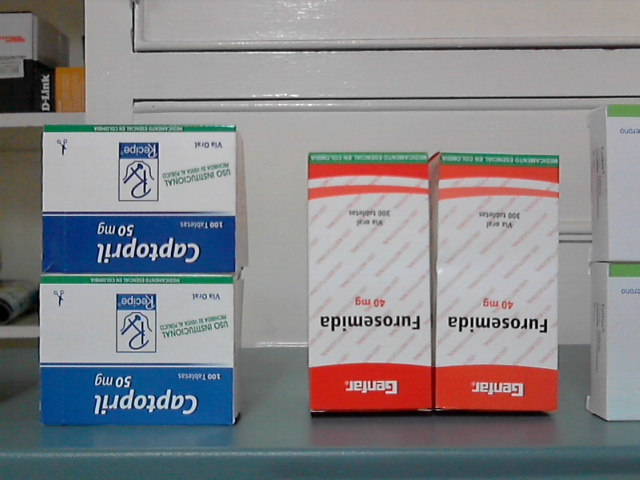Genfar: (436, 155, 558, 413), (309, 153, 430, 412)
